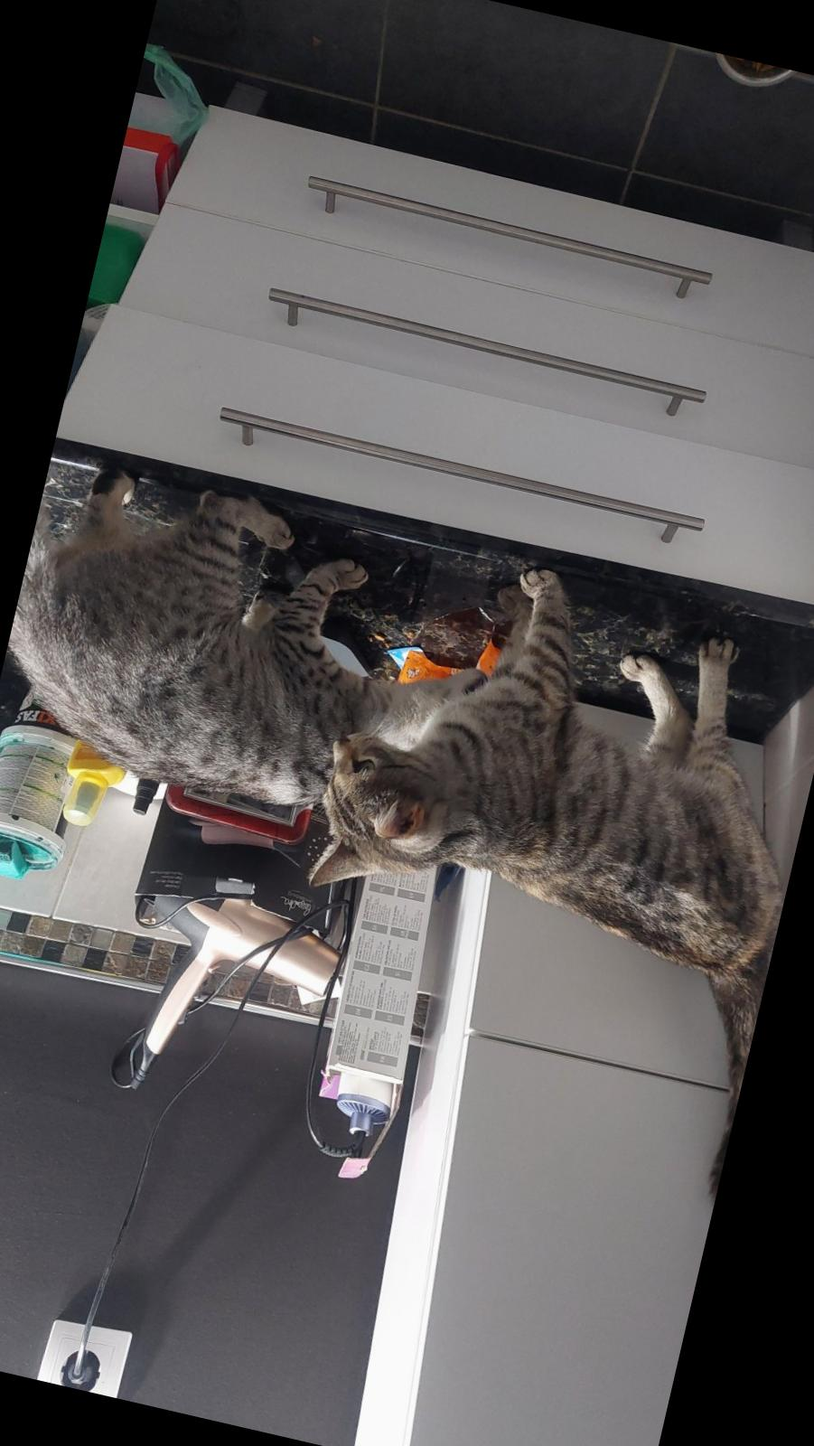macka: (295, 528, 814, 993), (0, 444, 519, 848)
